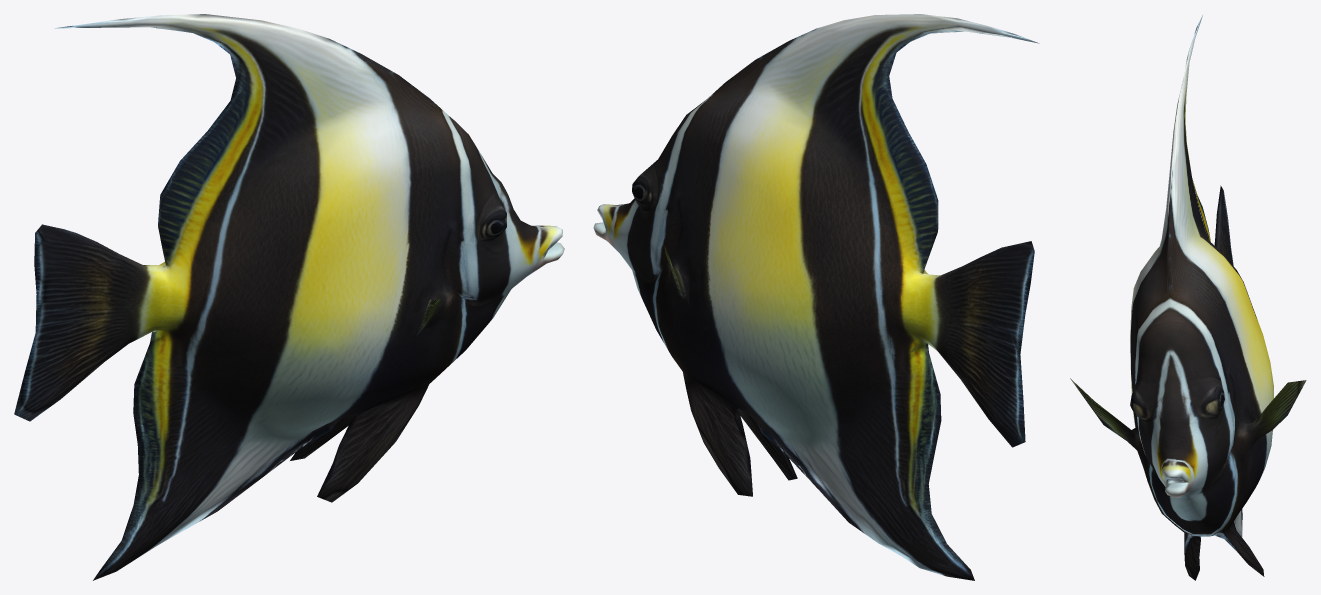
Rendered from tropicalfish_b4_single_1500.glb.
The picture shows the model from 3 angles, left to right: view 1: azimuth 30°, elevation 25°; view 2: azimuth 150°, elevation 25°; view 3: azimuth 270°, elevation 25°; orthographic projection. The views are drawn at different scales.
Size of the model in its own units: 0.7985 by 0.8743 by 0.3862.
Materials: 1 (1 with a texture image).
